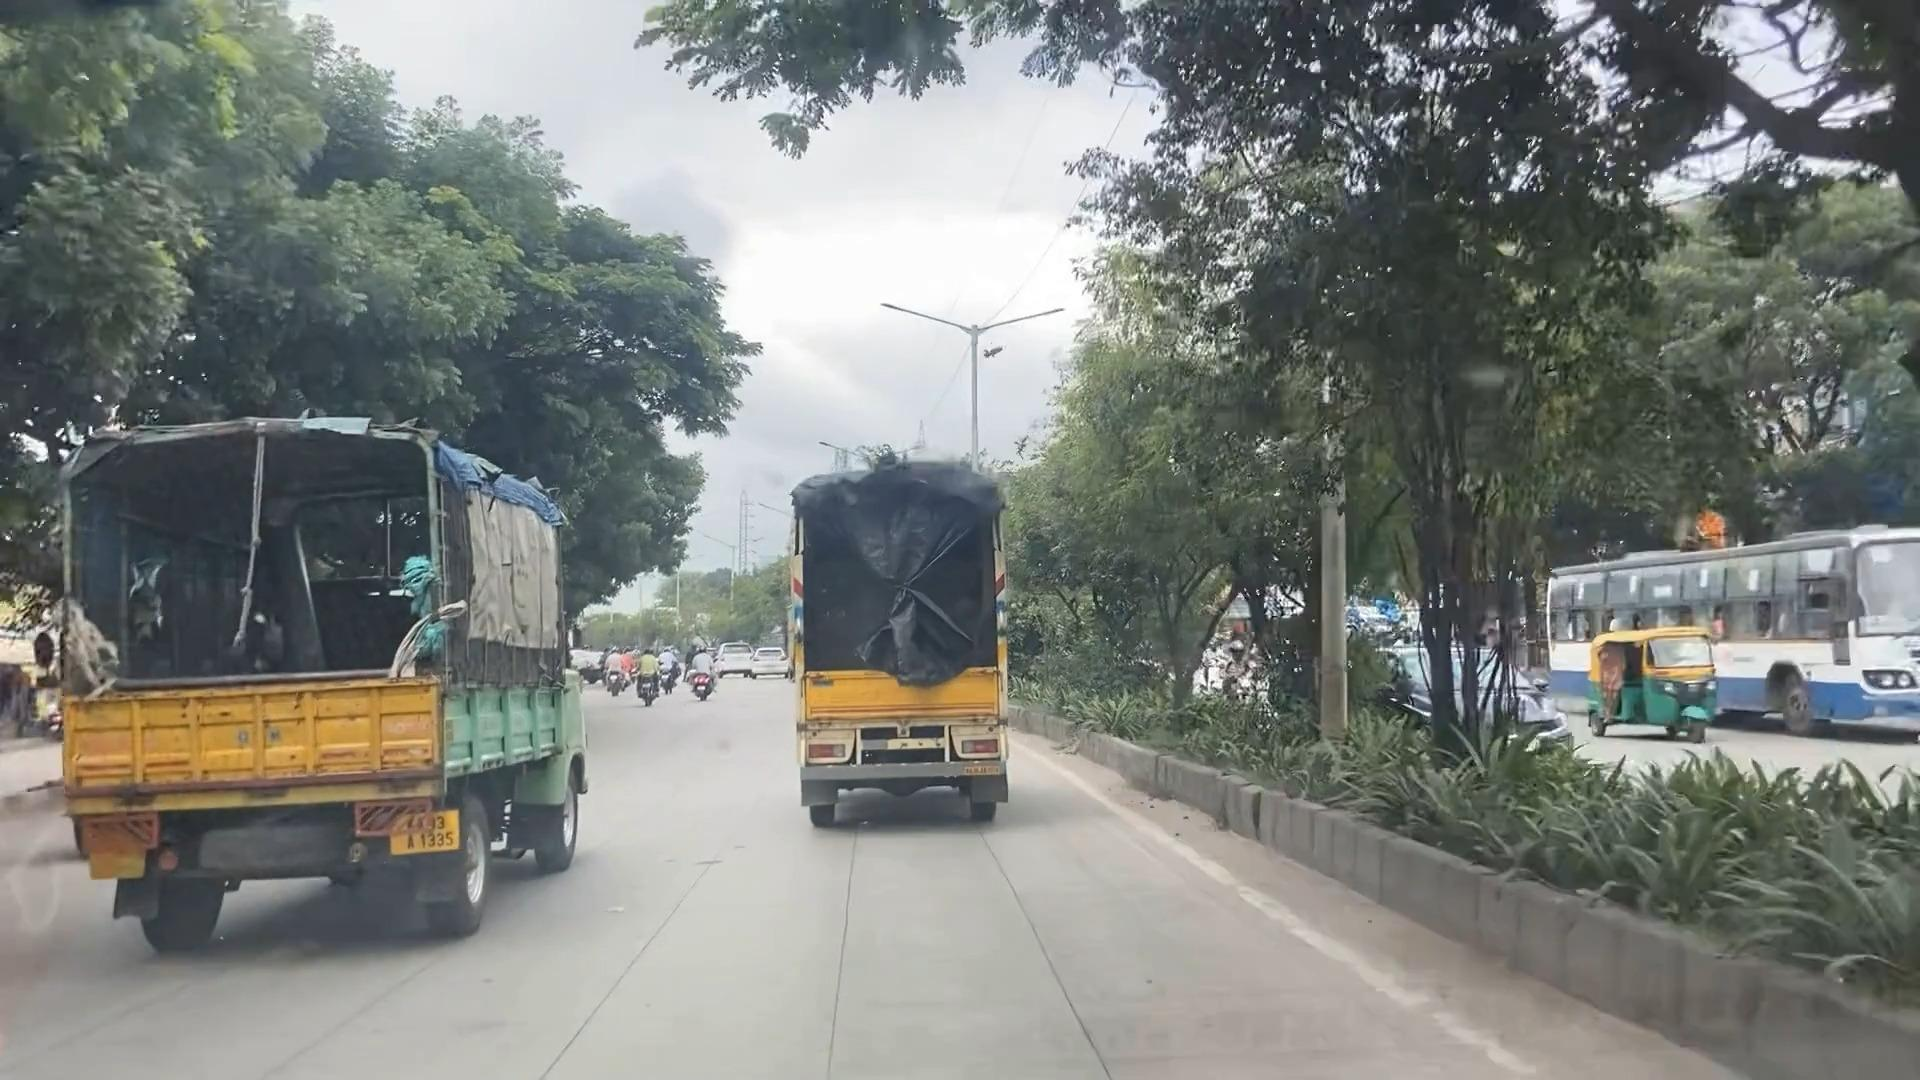HMV: (32, 415, 615, 964), (746, 381, 1046, 893)
